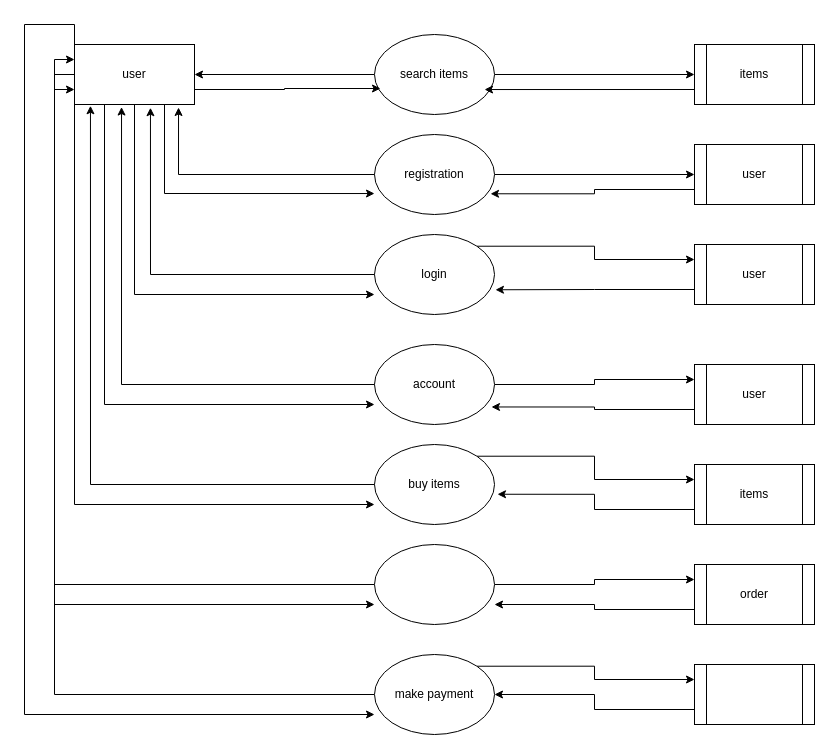
The diagram is 832 pixels wide and 752 high, and some of its shapes have lost their labels. Each missing label, with the box of its shape:
mark order: (374, 544, 494, 624)
payment: (694, 664, 814, 724)
